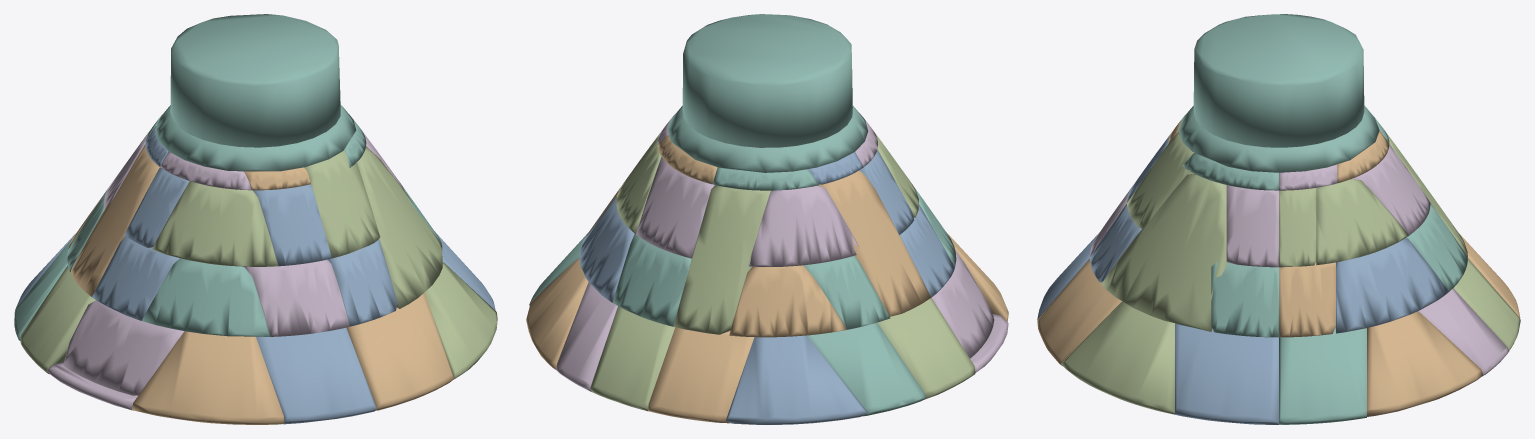
3 views of the same model, side by side, from view 1: azimuth 30°, elevation 25°; view 2: azimuth 150°, elevation 25°; view 3: azimuth 270°, elevation 25° (orthographic).
Bounding box in the file's own units: 1.71 × 1.09 × 1.71.
